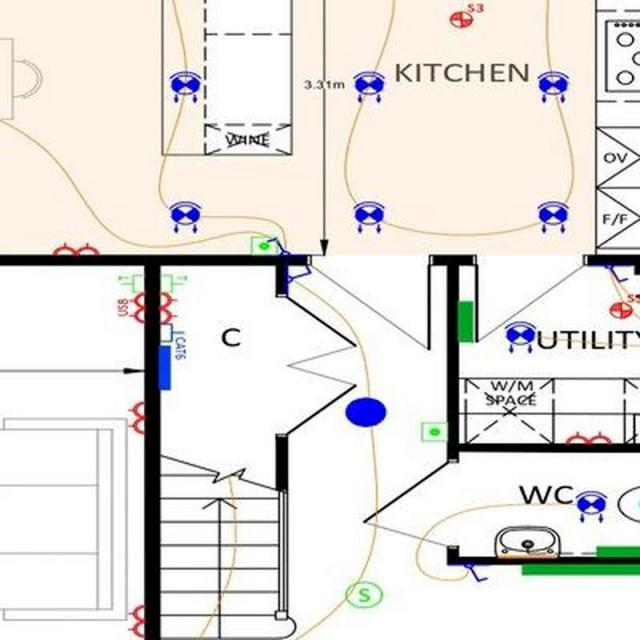Ceiling Mounted Continuous Extract FanWith Local Boost Switch: (448, 2, 482, 29), (608, 290, 639, 318)
Double Socket: (126, 604, 144, 638), (565, 431, 611, 444), (53, 241, 98, 254), (126, 402, 144, 434), (160, 292, 176, 324)
Light Switch: (603, 264, 629, 283), (462, 564, 488, 582), (287, 266, 311, 282), (268, 236, 289, 254)
Low Energy Downlighter: (168, 200, 202, 234), (168, 70, 202, 102), (574, 489, 606, 522), (352, 201, 384, 232), (537, 71, 569, 102), (537, 201, 568, 233), (353, 72, 384, 102), (505, 322, 535, 352)
Low Energy Pendant Light: (344, 398, 386, 428)
Mains Wired Smoke Detector: (345, 582, 382, 606)
Programmable Room Thermostat: (421, 422, 446, 442), (250, 235, 276, 253)
Radiator: (521, 565, 639, 575), (456, 299, 474, 343), (595, 545, 639, 556)
Telephone Socket: (160, 273, 187, 293), (117, 273, 143, 293)
Twin LED Strip Light: (157, 344, 170, 390)
USB Double Socket: (116, 294, 143, 326)
